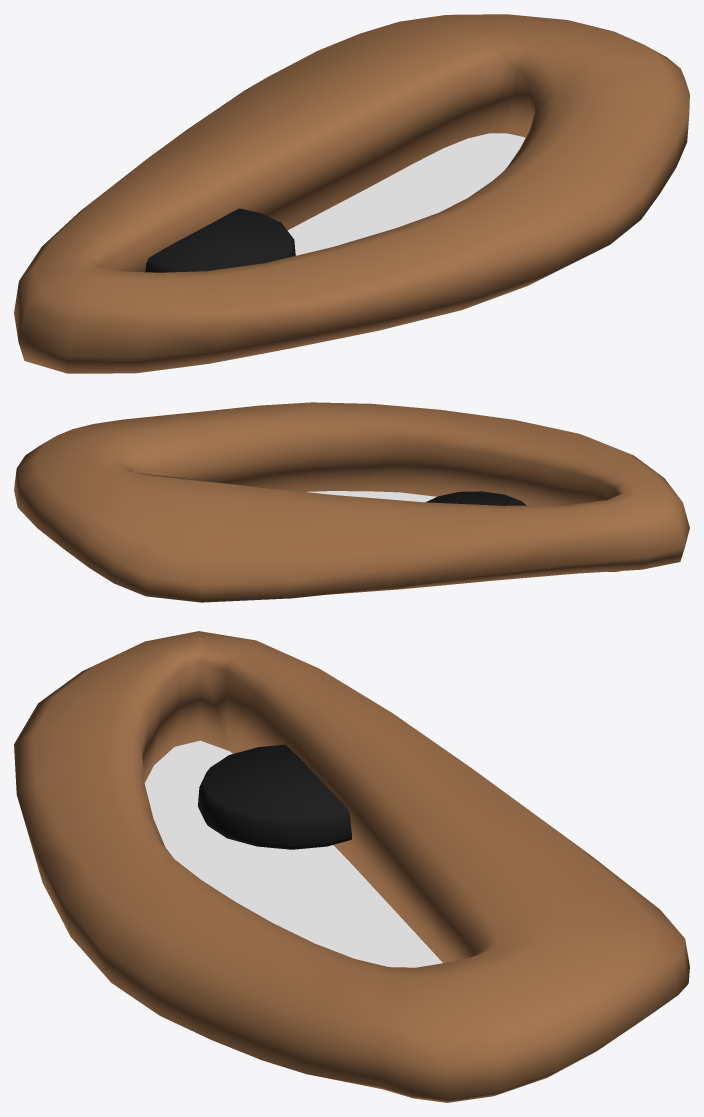
The model's file is Provident Eye.fbx.
3 views of the same model, one above another, from view 1: azimuth 30°, elevation 25°; view 2: azimuth 150°, elevation 25°; view 3: azimuth 270°, elevation 25° (orthographic). The views are drawn at different scales.
Parts seen in each view (by area): view 1: Provident Eye - imohamed7 (Mr Fear); view 2: Provident Eye - imohamed7 (Mr Fear); view 3: Provident Eye - imohamed7 (Mr Fear).
Boxes of the visible parts, x1,y1,x2,y2 form: Provident Eye - imohamed7 (Mr Fear): (14,14,689,373); Provident Eye - imohamed7 (Mr Fear): (14,402,689,602); Provident Eye - imohamed7 (Mr Fear): (14,631,689,1102).
Size of the model in its own units: 32.31 by 3.88 by 22.03.
